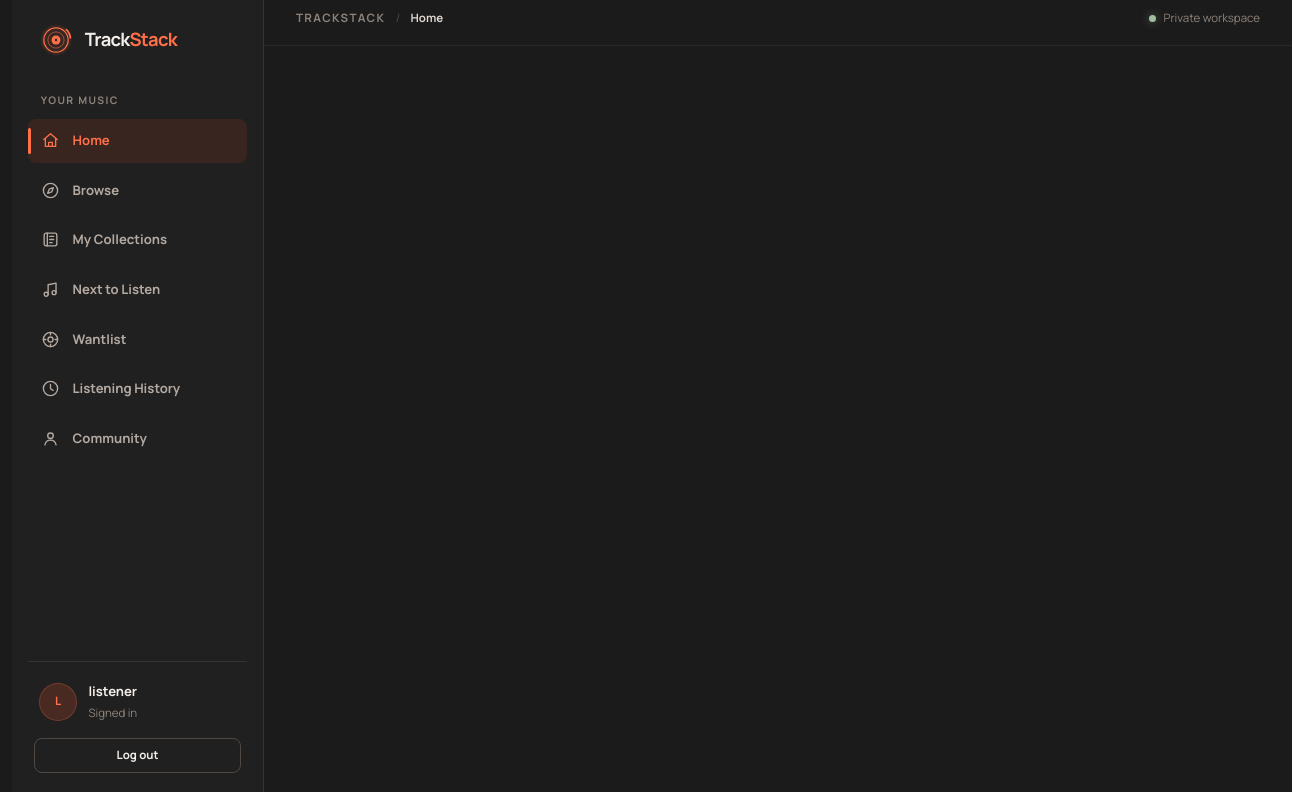
Test case: logs the signed-in user out and returns to the login screen
Click the button "Log out": coordinates (138, 755) [34, 738, 241, 773]
(page scrolled)
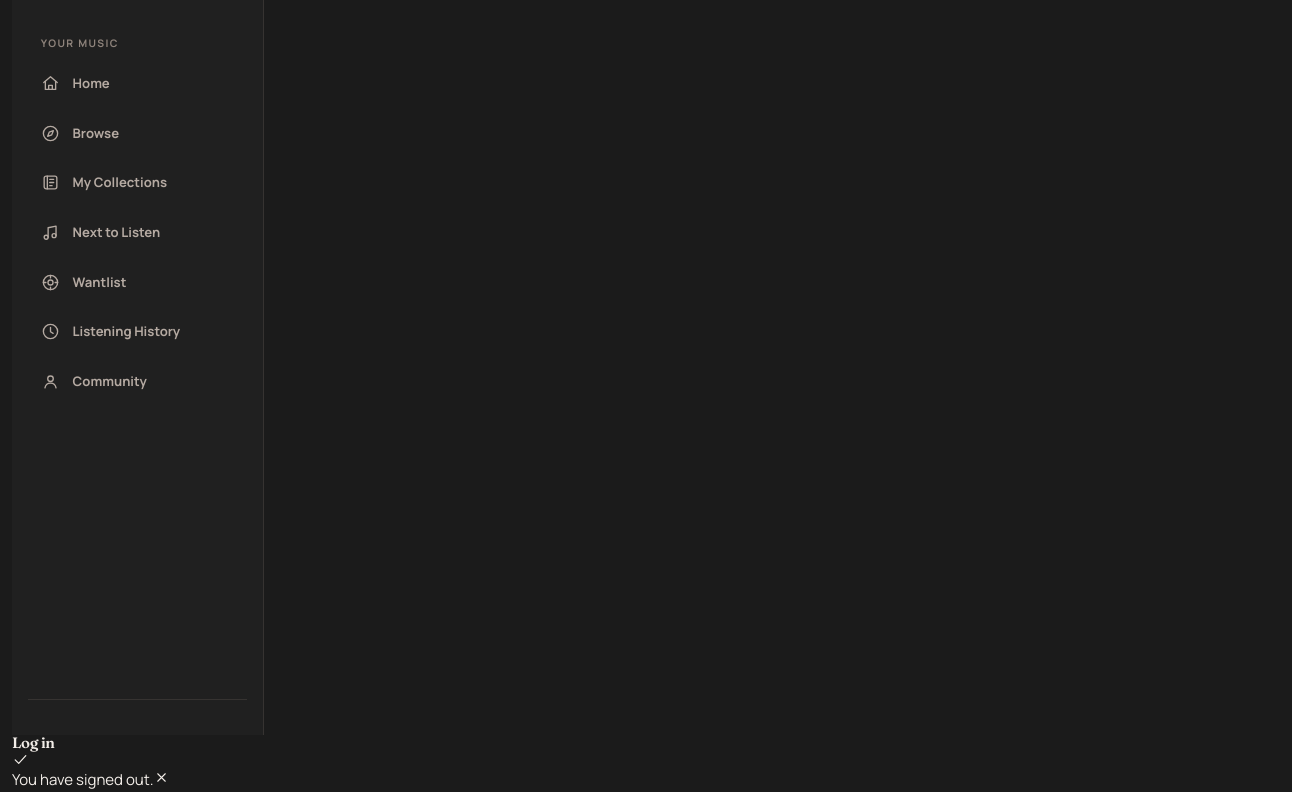
Result: the heading "Log in" is shown at [12, 733, 55, 752]
